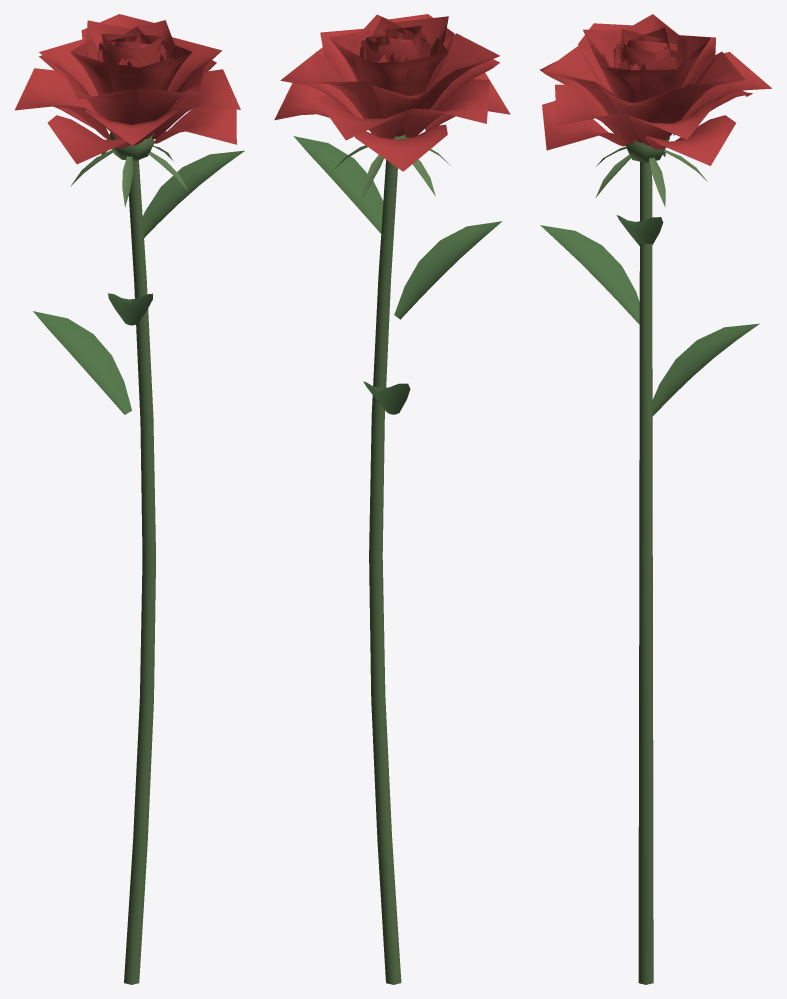
Rendered from rose.glb.
3 renders of one model, left to right at view 1: azimuth 30°, elevation 25°; view 2: azimuth 150°, elevation 25°; view 3: azimuth 270°, elevation 25°, orthographic.
Visible parts, largest first — view 1: rose; view 2: rose; view 3: rose.
Part boxes in pixels (x1,y1,x2,y2): rose: [15, 14, 244, 984]; rose: [274, 14, 510, 984]; rose: [540, 14, 771, 984].
Size of the model in its own units: 0.0842 by 0.3597 by 0.0805.
